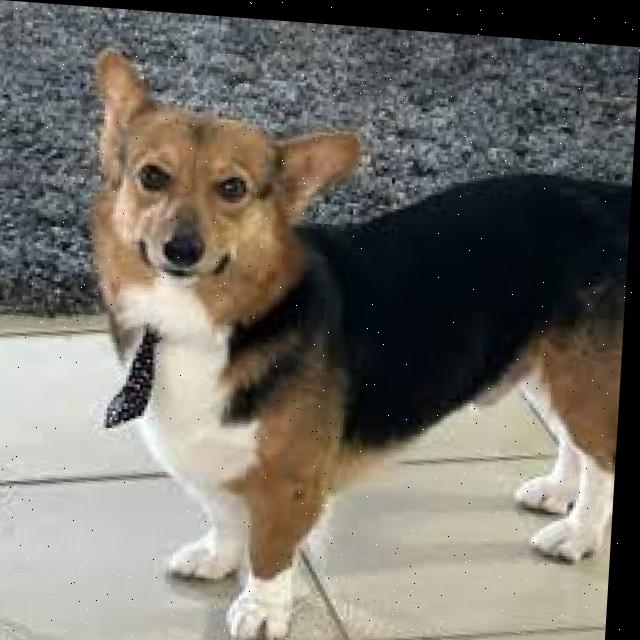CORGI: (52, 25, 639, 640)
